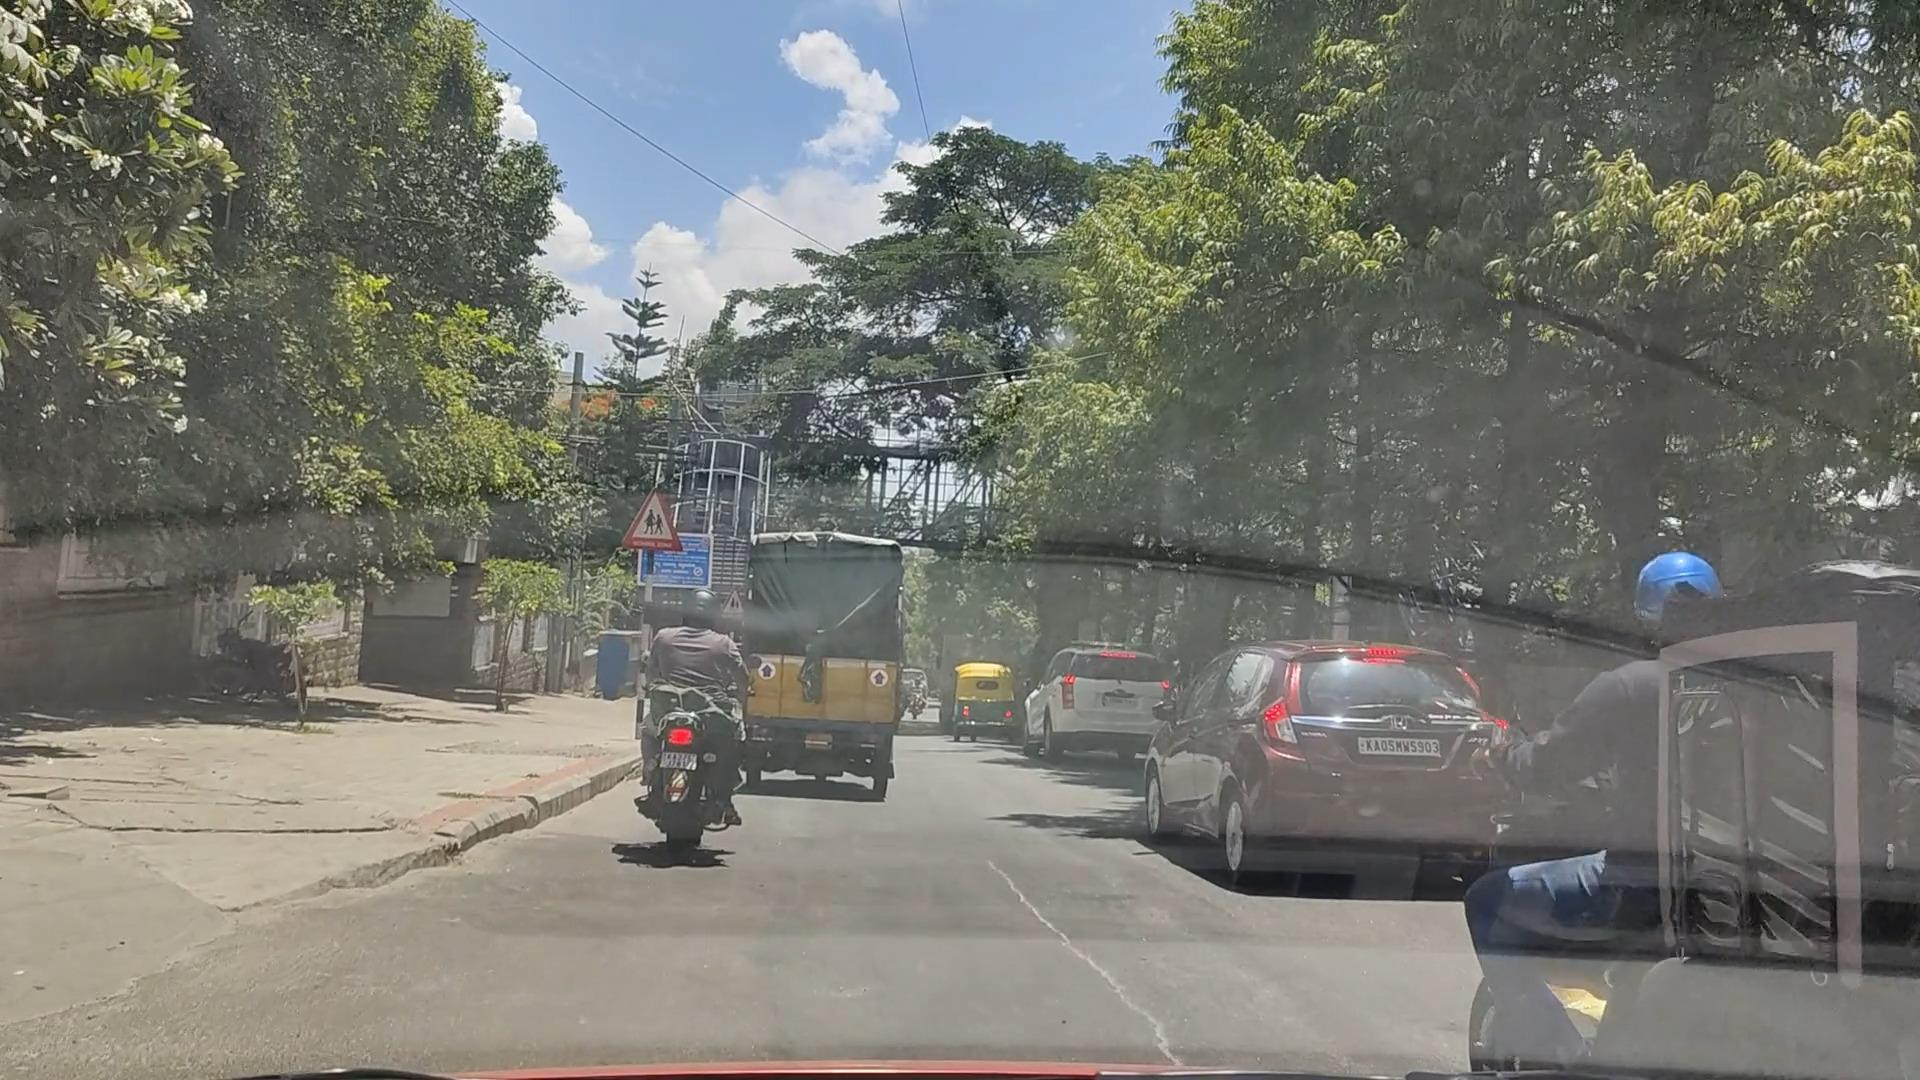HMV: (727, 531, 915, 793)
RoadDamages: (934, 886, 1179, 1060)
